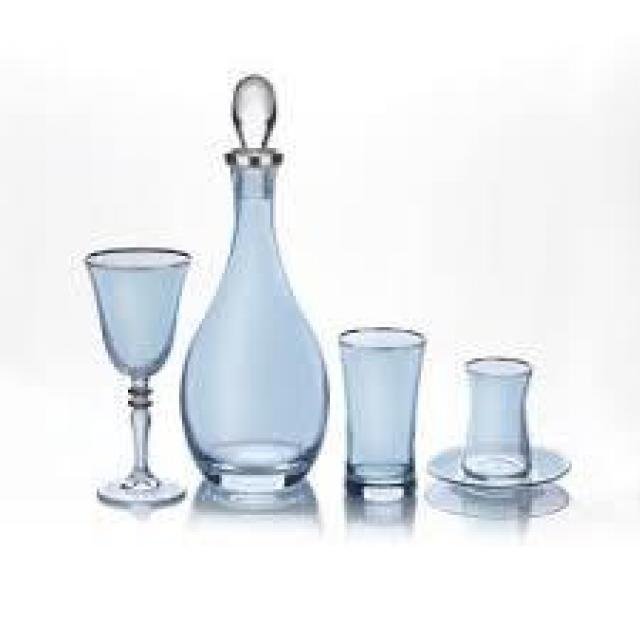non-organic waste: (176, 67, 338, 499), (72, 243, 200, 508), (420, 348, 576, 496), (329, 324, 428, 498)
